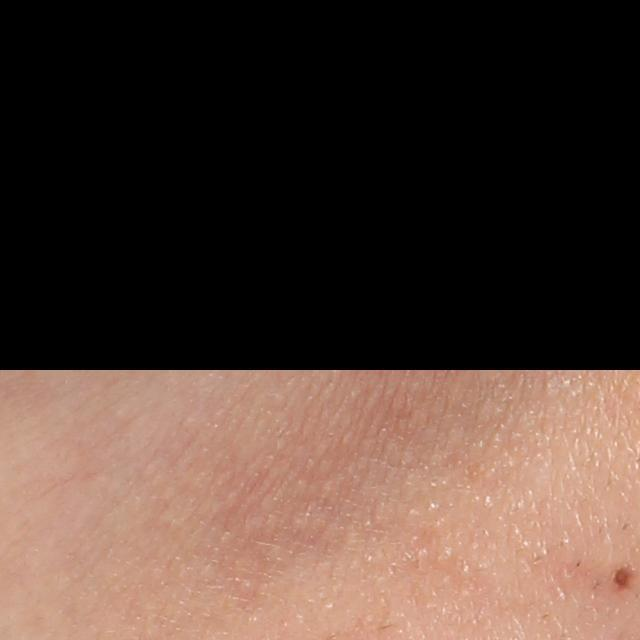nevus: (611, 562, 631, 589)
